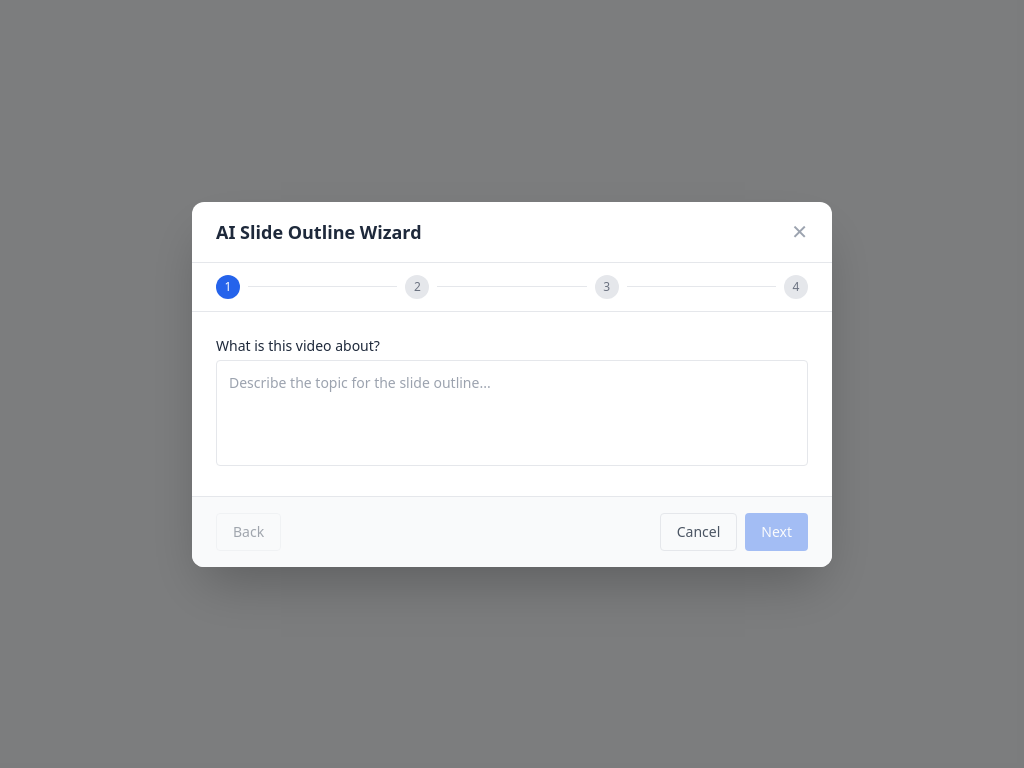
SlideOutlineWizard › SLIDE-12: next button advances to step 2 after entering prompt
The width and height of the screenshot is (1024, 768).
Type "Python tutorial" into the text box with test id "wizard-source-prompt". click: (512, 412)
box: [216,360,808,466]
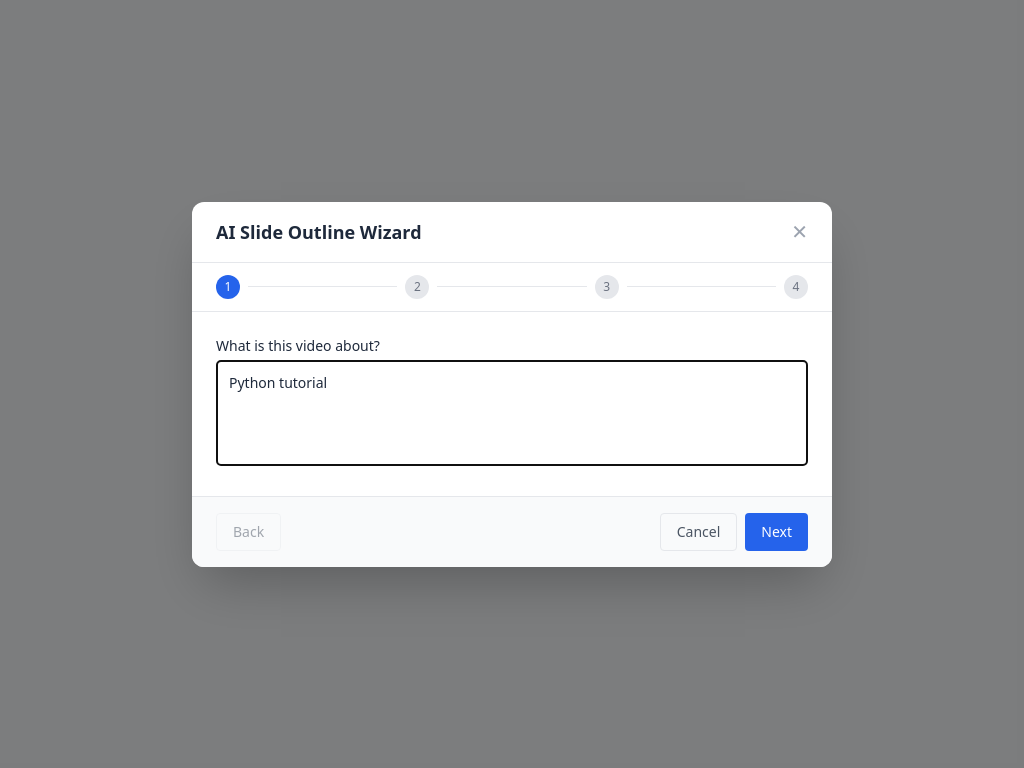
Click the button with test id "wizard-next-btn". click: (777, 532)
box: [745,512,808,550]
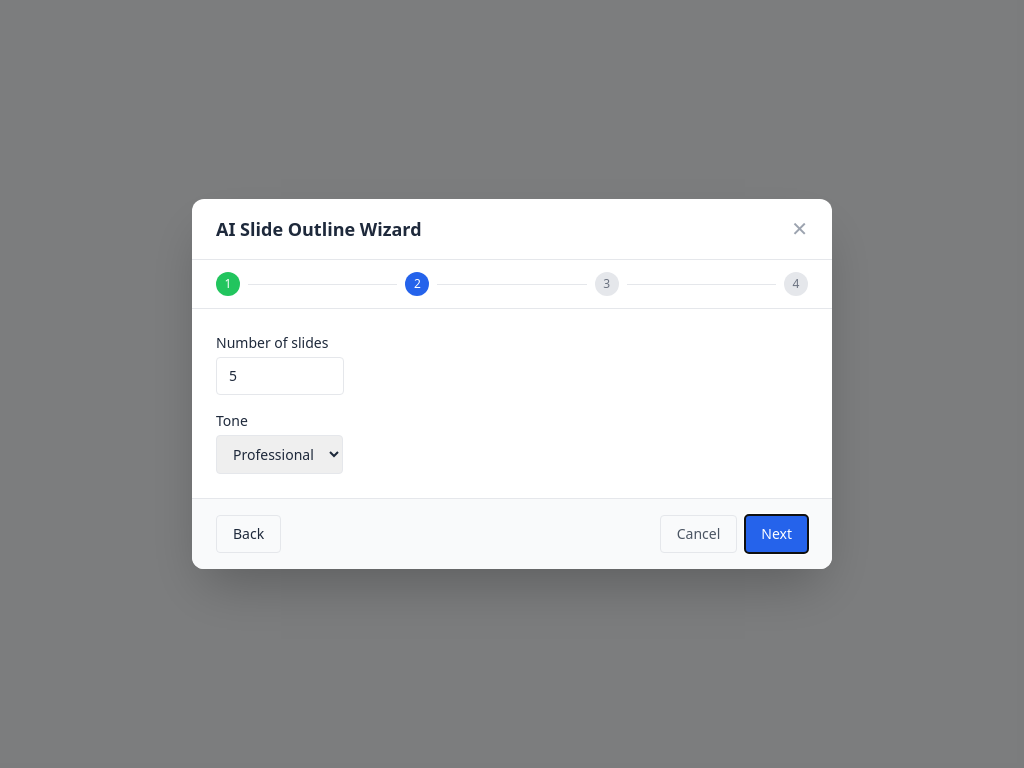
Now the element with test id "wizard-step-2" is shown, box [216,333,344,474]
